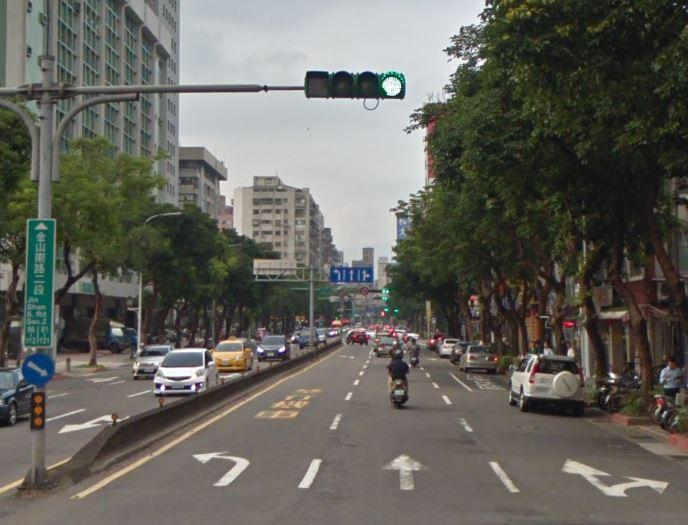car: (506, 345, 589, 415), (148, 337, 218, 401), (0, 361, 36, 427), (208, 338, 255, 375), (131, 342, 175, 380), (460, 337, 497, 373), (255, 329, 294, 360), (435, 336, 462, 362), (372, 335, 399, 359)
green_traffic_light: (300, 65, 410, 105)
motorcycle: (385, 363, 414, 406)
